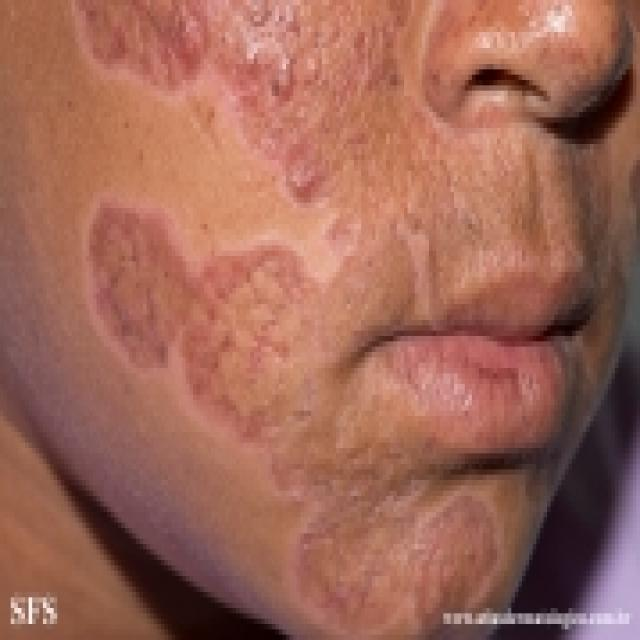lupus: (44, 0, 370, 480)
